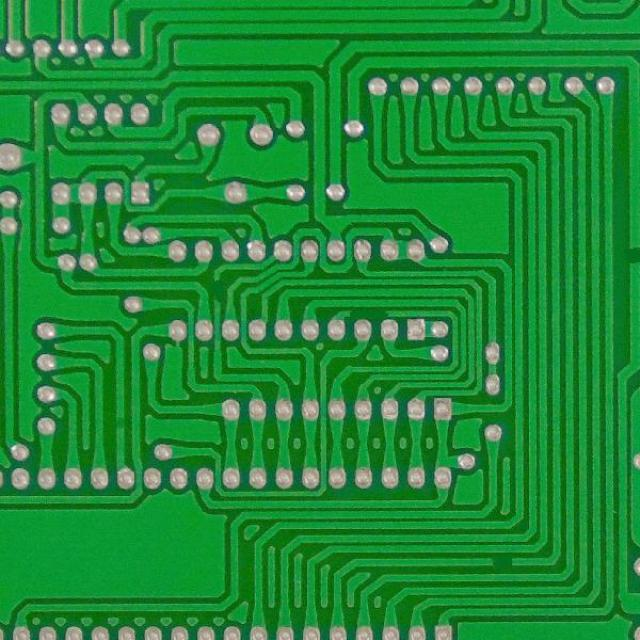Open_Circuit: (618, 232, 640, 280), (483, 551, 523, 572), (208, 270, 225, 310)
